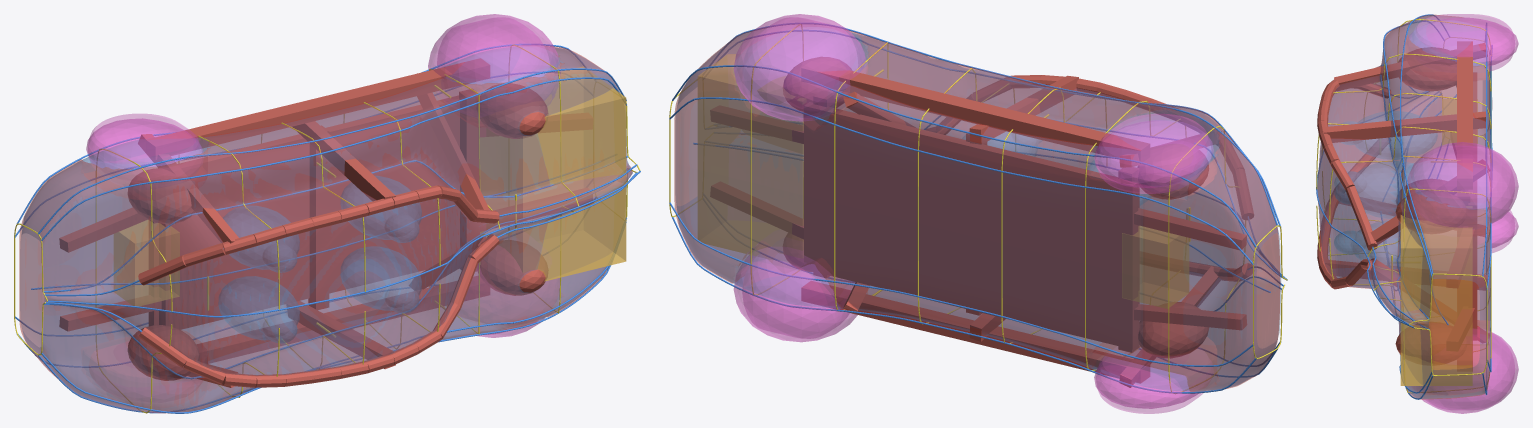
Rendered from modern_car_v2_reference_engineering.glb.
3 renders of one model, left to right at view 1: azimuth 30°, elevation 25°; view 2: azimuth 150°, elevation 25°; view 3: azimuth 270°, elevation 25°, orthographic. The views are drawn at different scales.
Visible parts, largest first — view 1: semantic_surface, body_reference, floor_pan, engine_envelope, rocker_right, wheel_envelope_front_right, roof_rail_left, actual_tyre_sweep_front_right, roof_rail_right, rocker_left, actual_tyre_sweep_rear_right, wheel_envelope_rear_right (+38 smaller); view 2: semantic_surface, body_reference, floor_pan, engine_envelope, wheel_envelope_front_right, actual_tyre_sweep_front_right, wheel_envelope_front_left, rocker_right, actual_tyre_sweep_rear_right, rocker_left, wheel_envelope_rear_right, actual_tyre_sweep_front_left (+29 smaller); view 3: semantic_surface, body_reference, engine_envelope, wheel_envelope_front_right, actual_tyre_sweep_front_right, actual_tyre_sweep_rear_right, wheel_envelope_rear_right, wheel_envelope_front_left, b_pillar_right, rocker_right, roof_rail_right, front_tower_right (+36 smaller).
Boxes of the visible parts, left/top/right/bottom form: semantic_surface: left=20, top=47, right=632, bottom=412; body_reference: left=19, top=46, right=632, bottom=413; floor_pan: left=148, top=96, right=459, bottom=329; engine_envelope: left=480, top=66, right=626, bottom=281; rocker_right: left=146, top=58, right=489, bottom=159; wheel_envelope_front_right: left=428, top=14, right=559, bottom=103; roof_rail_left: left=138, top=234, right=499, bottom=387; actual_tyre_sweep_front_right: left=437, top=17, right=549, bottom=81; roof_rail_right: left=138, top=185, right=499, bottom=285; rocker_left: left=197, top=276, right=489, bottom=363; actual_tyre_sweep_rear_right: left=88, top=114, right=201, bottom=168; wheel_envelope_rear_right: left=86, top=118, right=203, bottom=169; semantic_surface: left=675, top=29, right=1280, bottom=391; body_reference: left=674, top=28, right=1280, bottom=391; floor_pan: left=804, top=102, right=1138, bottom=349; engine_envelope: left=698, top=54, right=805, bottom=257; wheel_envelope_front_right: left=733, top=14, right=866, bottom=121; actual_tyre_sweep_front_right: left=742, top=17, right=857, bottom=118; wheel_envelope_front_left: left=733, top=247, right=857, bottom=342; rocker_right: left=801, top=61, right=1149, bottom=163; actual_tyre_sweep_rear_right: left=1096, top=114, right=1210, bottom=193; rocker_left: left=801, top=281, right=1149, bottom=383; wheel_envelope_rear_right: left=1094, top=120, right=1213, bottom=187; actual_tyre_sweep_front_left: left=742, top=257, right=849, bottom=338; semantic_surface: left=1317, top=15, right=1492, bottom=398; body_reference: left=1317, top=14, right=1490, bottom=399; engine_envelope: left=1400, top=206, right=1472, bottom=385; wheel_envelope_front_right: left=1407, top=142, right=1518, bottom=226; actual_tyre_sweep_front_right: left=1411, top=145, right=1514, bottom=223; actual_tyre_sweep_rear_right: left=1412, top=14, right=1514, bottom=71; wheel_envelope_rear_right: left=1409, top=18, right=1518, bottom=66; wheel_envelope_front_left: left=1422, top=327, right=1518, bottom=413; b_pillar_right: left=1323, top=111, right=1486, bottom=142; rocker_right: left=1457, top=41, right=1472, bottom=189; roof_rail_right: left=1317, top=79, right=1391, bottom=250; front_tower_right: left=1395, top=190, right=1466, bottom=233.
Size of the model in its own units: 4.36 by 2.22 by 1.58.
